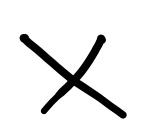mult: (19, 33, 128, 118)
